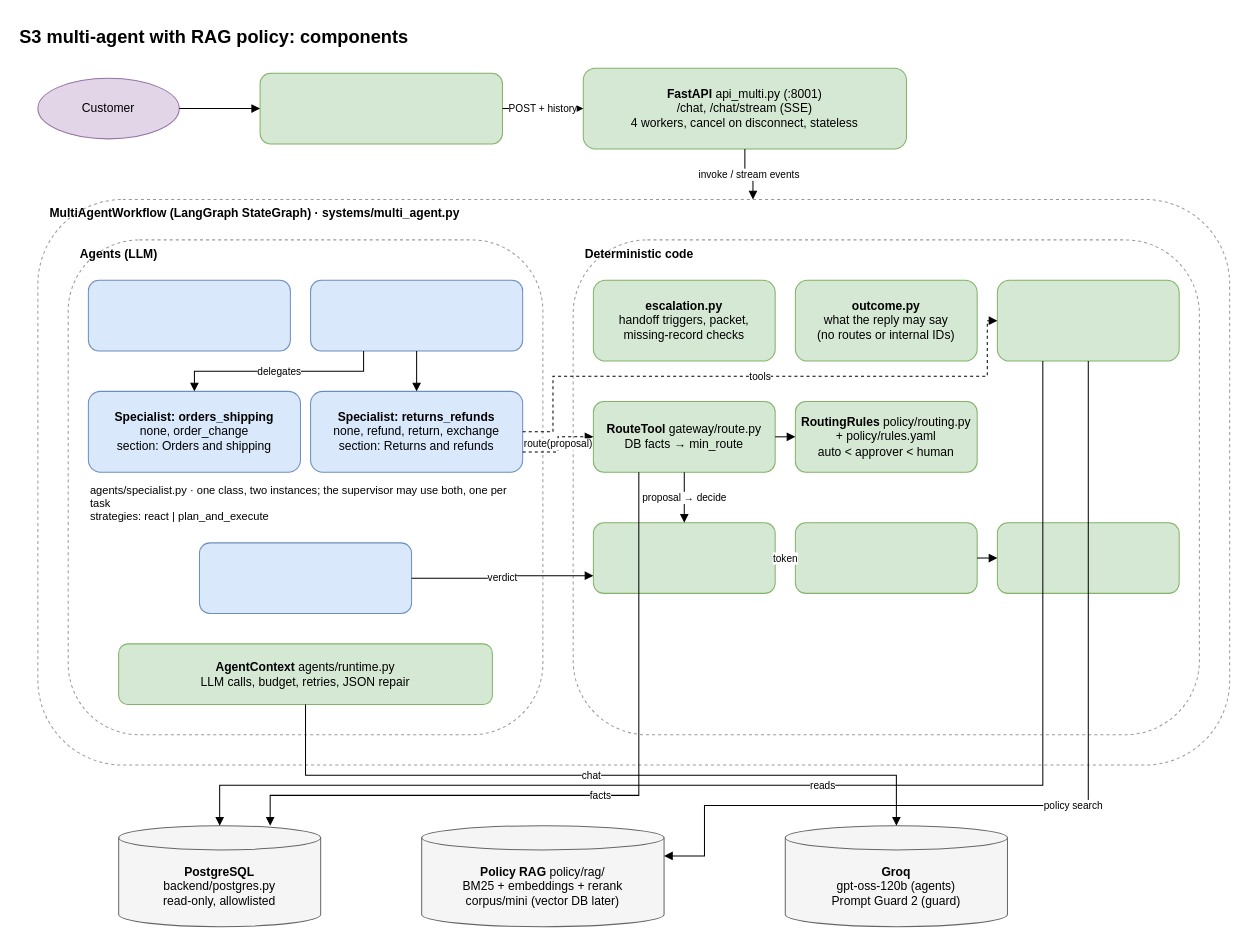
This 1247x944 diagram has some shape labels left out. The box of each missing label's shape, as (x1, y1, x2, y2) in pixels:
Approver agents/approver.py proposal check · reply check: (198, 542, 412, 614)
Audit log gateway/ticket_state.py: (996, 522, 1179, 593)
BackendWrites gateway/writes.py token + idempotency: (794, 522, 977, 593)
Guard agents/guard.py Prompt Guard 2, every turn: (87, 279, 290, 351)
Streamlit page scripts/demo_multi_agent.py live timeline: (259, 72, 502, 144)
Supervisor supervisor/supervisor.py decide · draft reply: (310, 279, 523, 351)
TicketFlow gateway/approvals.py states, bound tokens: (592, 522, 775, 593)
Toolbox agents/toolbox.py read tools per specialist, scoped policy search: (996, 279, 1179, 361)
